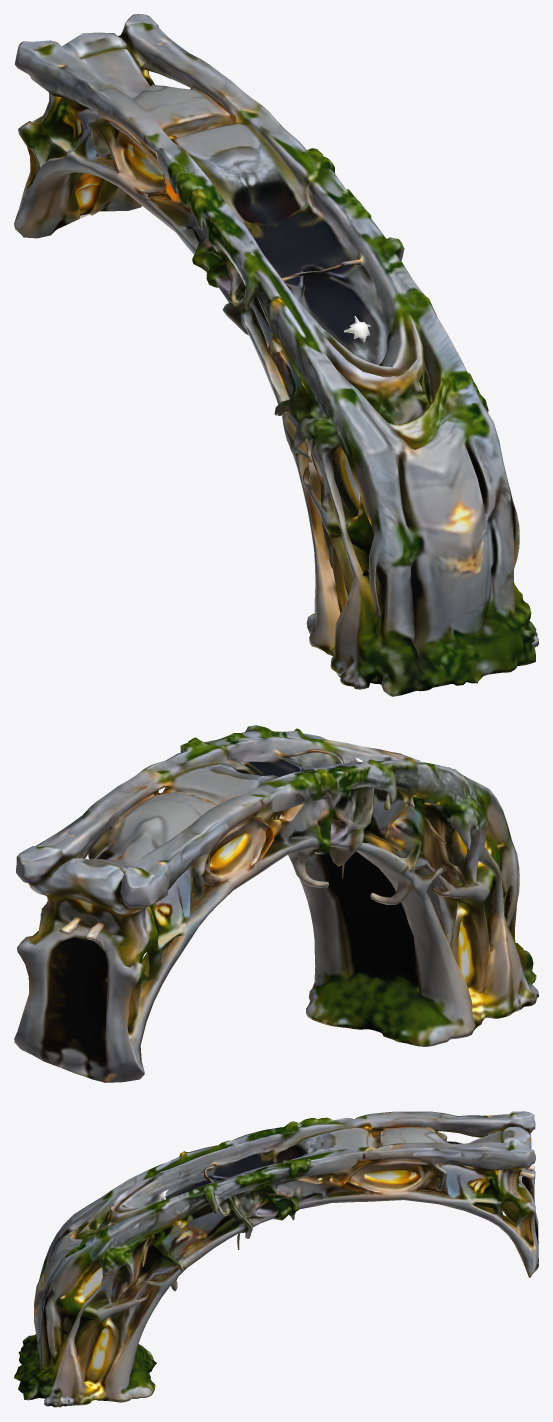
Rendered from half_arch_segment_low.glb.
3 renders of one model, top to bottom at view 1: azimuth 30°, elevation 25°; view 2: azimuth 150°, elevation 25°; view 3: azimuth 270°, elevation 25°, orthographic. The views are drawn at different scales.
Parts seen in each view (by area): view 1: geometry_0; view 2: geometry_0; view 3: geometry_0.
Part boxes in pixels (x1,y1,x2,y2): geometry_0: (14,14,538,696); geometry_0: (14,725,538,1082); geometry_0: (14,1111,538,1407).
Size of the model in its own units: 0.27 by 0.498 by 0.9546.
Materials: 1 (1 with a texture image).
